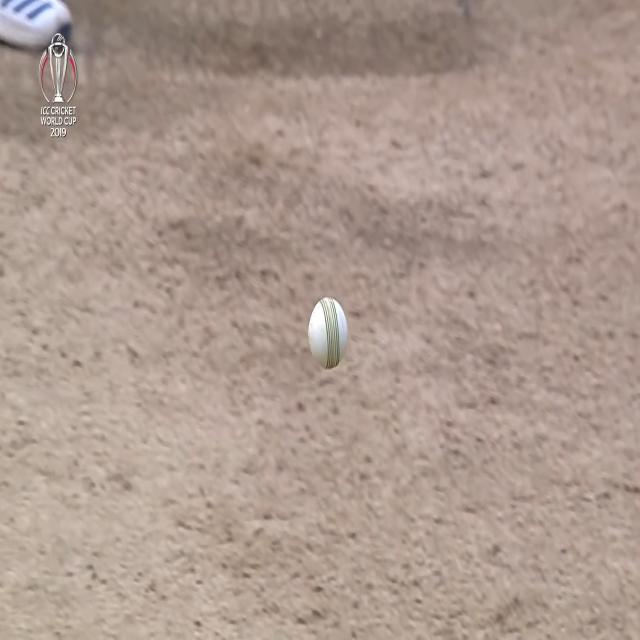Cricket ball: (308, 294, 350, 370)
